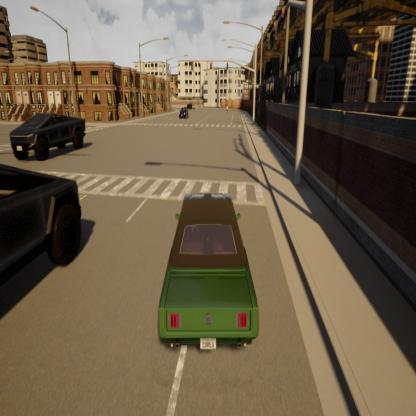Cars: (154, 182, 266, 365), (0, 153, 90, 308), (8, 101, 90, 165), (179, 106, 190, 121)
